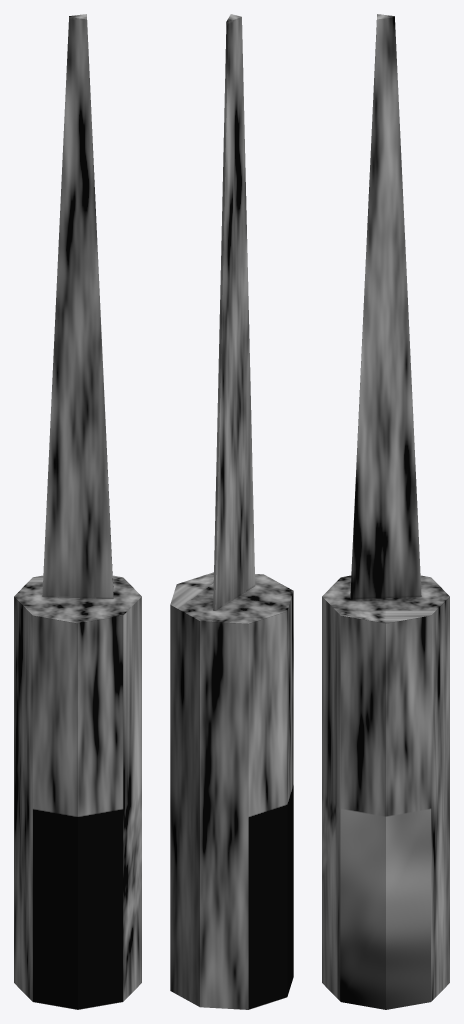
Rendered from knife.glb.
3 renders of one model, left to right at view 1: azimuth 90°, elevation 25°; view 2: azimuth 150°, elevation 25°; view 3: azimuth 270°, elevation 25°, orthographic.
Visible parts, largest first — view 1: knife; view 2: knife; view 3: knife.
Part boxes in pixels (<box>): knife: <box>14,14,141,1009</box>; knife: <box>170,14,293,1009</box>; knife: <box>322,14,449,1009</box>.
Size of the model in its own units: 0.03 by 0.25 by 0.03.
1 material, 1 textured.
